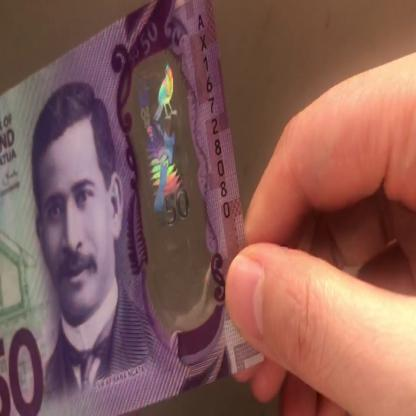50F: (137, 54, 198, 310)
